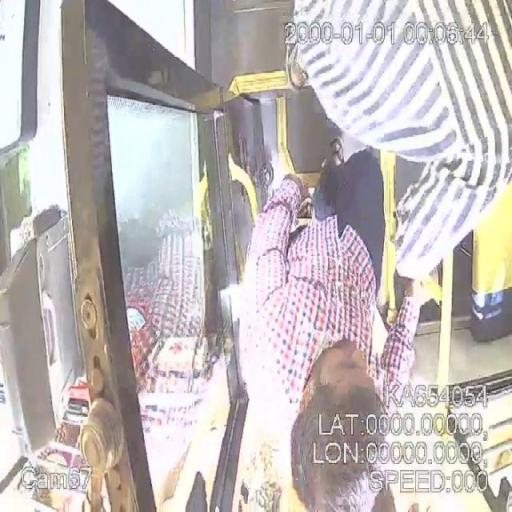persona: (232, 172, 436, 510)
